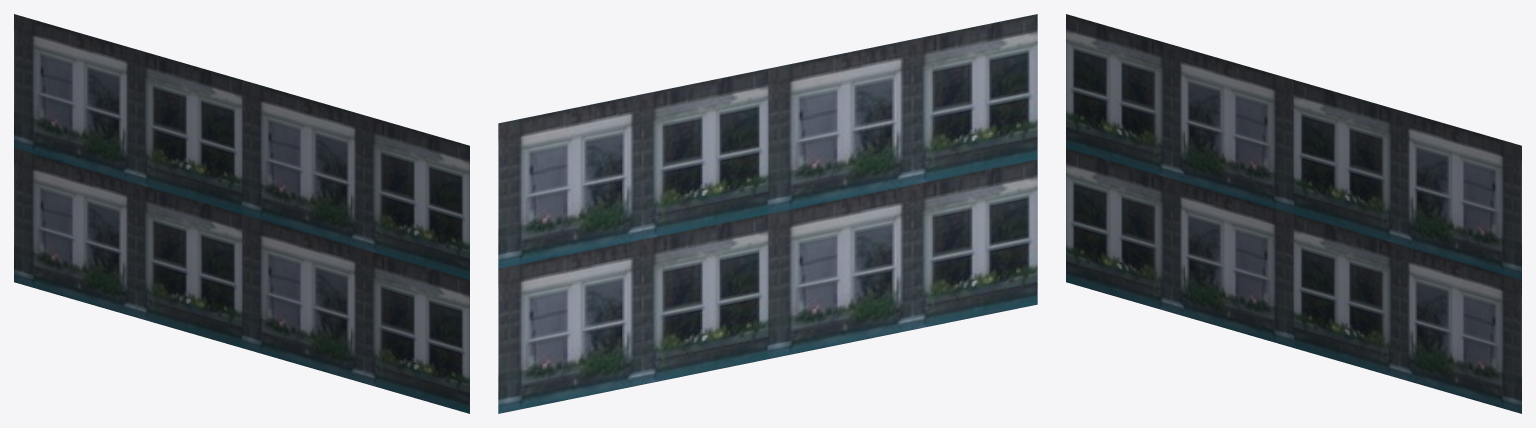
Rendered from ResTex__435.fbx.
3 renders of one model, left to right at view 1: azimuth 90°, elevation 25°; view 2: azimuth 150°, elevation 25°; view 3: azimuth 270°, elevation 25°, orthographic. The views are drawn at different scales.
Visible parts, largest first — view 1: CityEngineMaterial_11_m; view 2: CityEngineMaterial_11_m; view 3: CityEngineMaterial_11_m.
Boxes of the visible parts, x1,y1,x2,y2 form: CityEngineMaterial_11_m: (14, 14, 469, 413); CityEngineMaterial_11_m: (498, 14, 1037, 413); CityEngineMaterial_11_m: (1066, 14, 1521, 413).
Bounding box in the file's own units: 6.32 × 6 × 9.24.
1 material, 1 textured.
